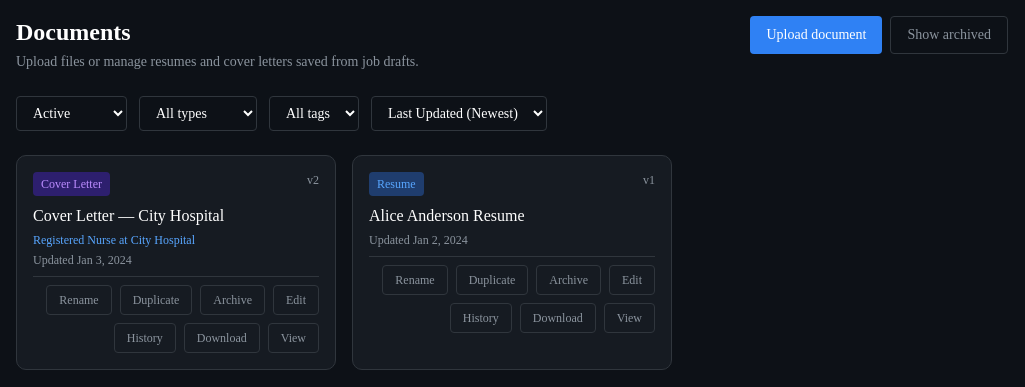
Test: DocumentsPage - S3-007 Document Duplicate and Rename › adds the duplicated document to the list when Duplicate succeeds
This screenshot has width=1025, height=387.
expect the heading "Alice Anderson Resume" is shown: met, box top-left (369, 207), bottom-right (524, 224)
Click the button with test id "document-duplicate-button" below "Jan 2, 2024".
click(492, 280)  # box top-left (456, 265), bottom-right (528, 295)
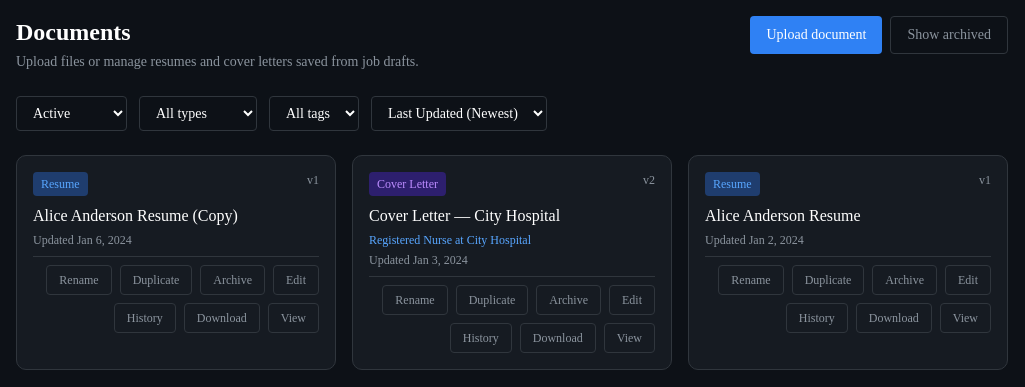
expect the heading "Alice Anderson Resume (Copy)" is shown: met, box top-left (33, 207), bottom-right (238, 224)
